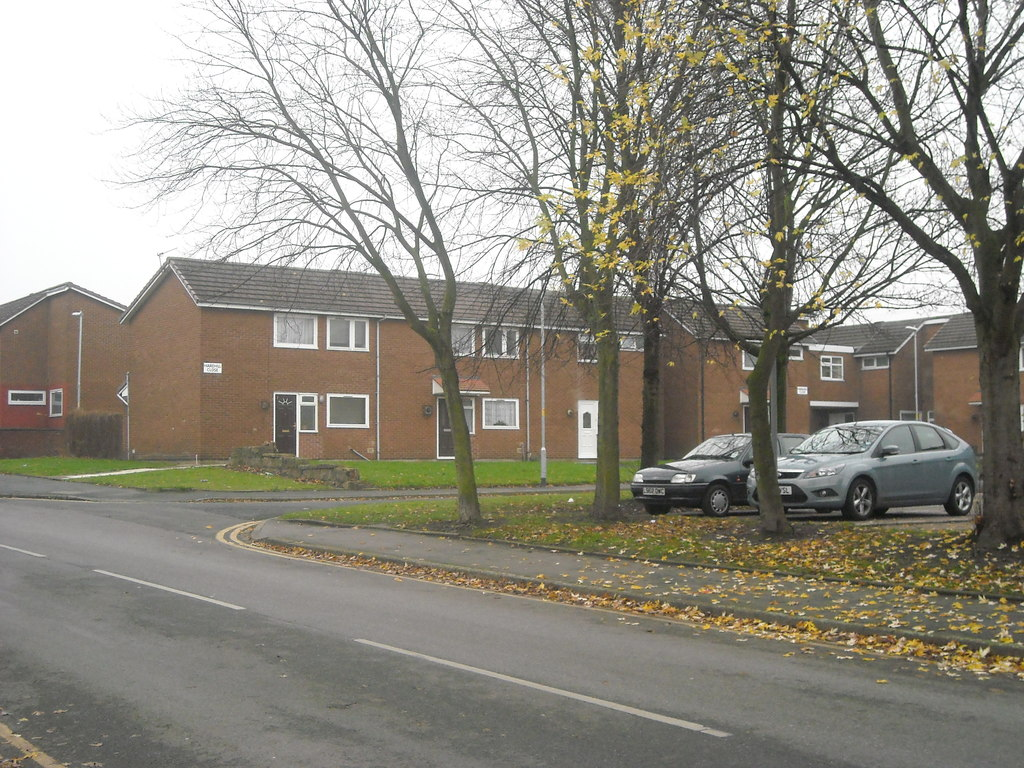Tree: (0, 14, 1024, 559)
